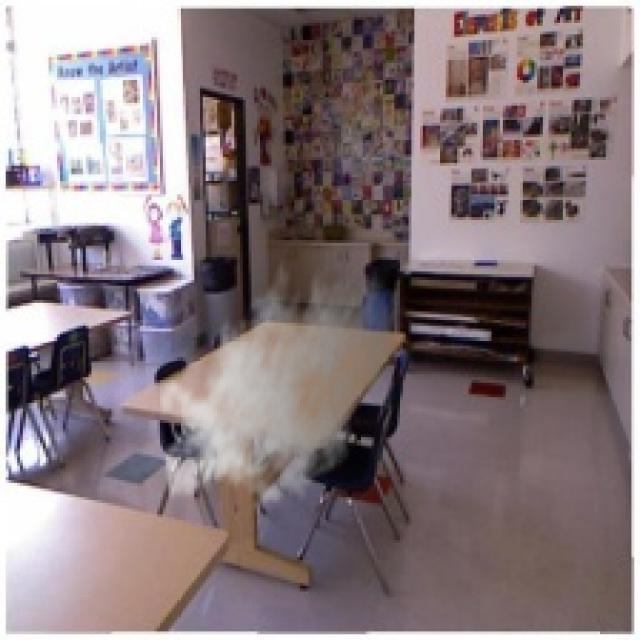Smoke: (157, 248, 403, 514)
